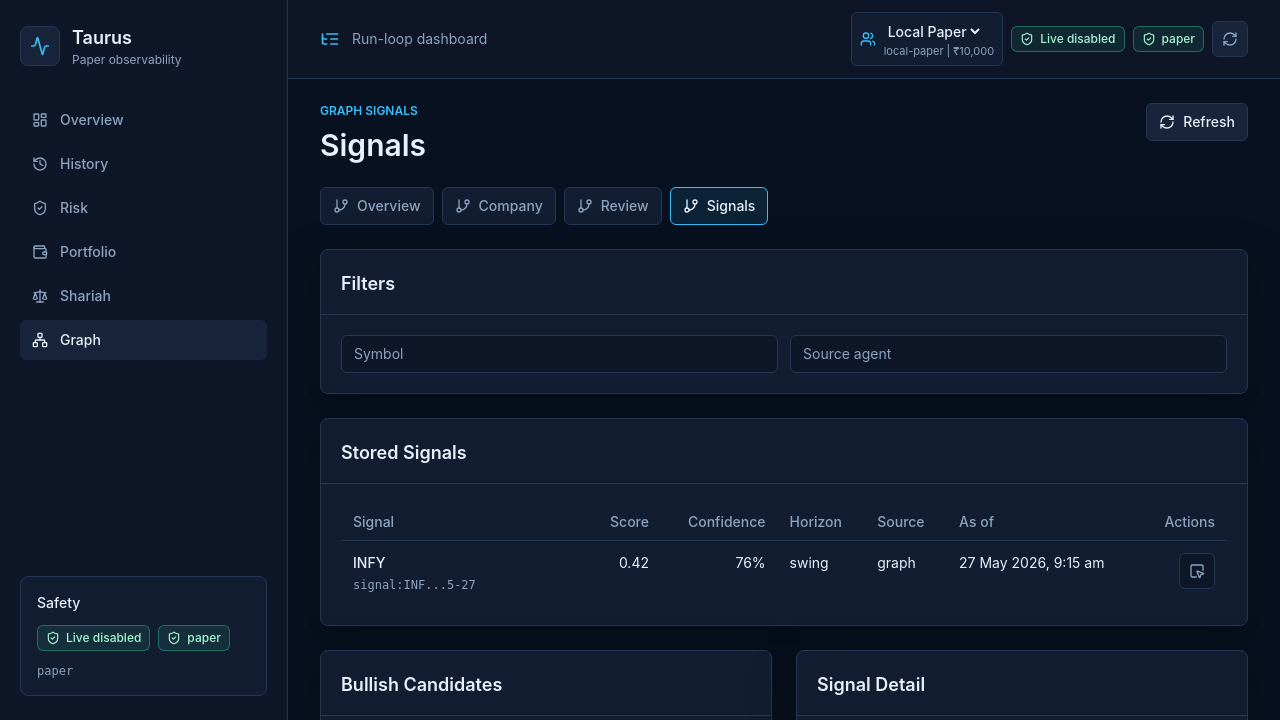
GraphPages › renders graph signals and contribution details
Expected: the heading "Signals" is shown, top-left (320, 127), bottom-right (426, 163)
Expected: the text "INFY" is shown, top-left (353, 554), bottom-right (385, 571)
Click the button named "Inspect signal" at (1197, 571), box top-left (1179, 553), bottom-right (1215, 589)
(page scrolled)
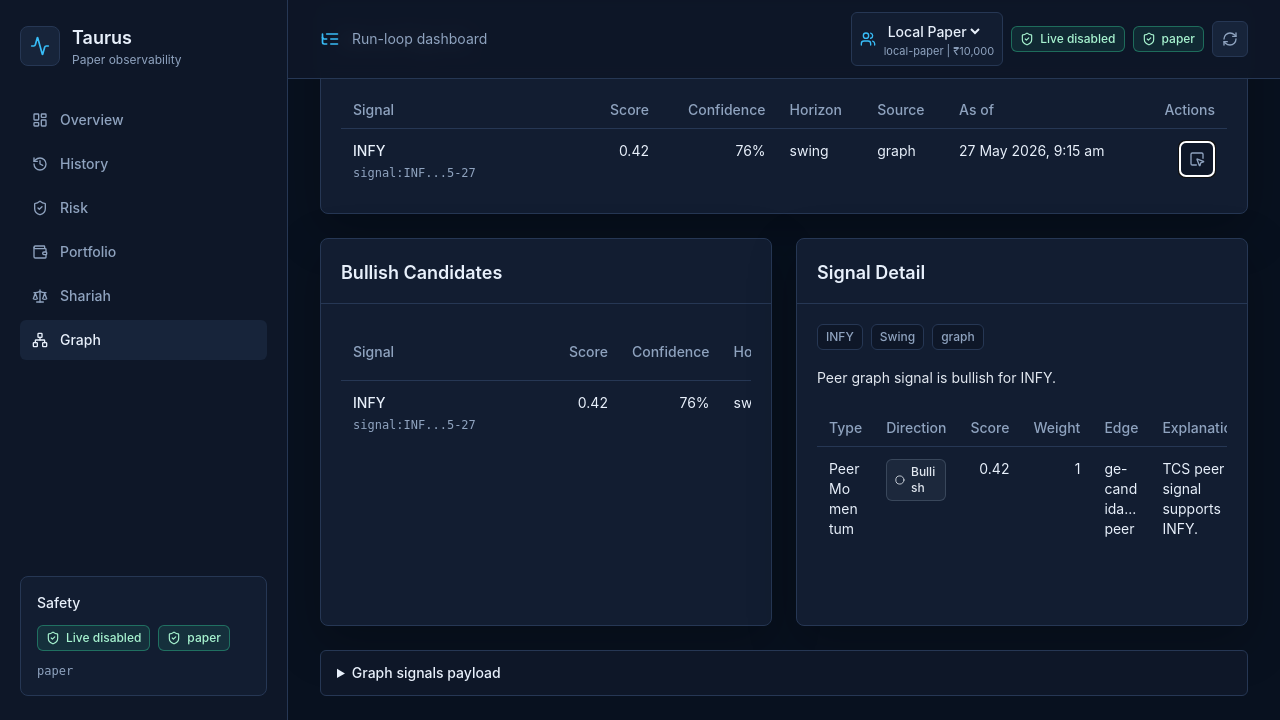
Expected: the text "Peer graph signal is bullish for INFY." is shown, top-left (817, 369), bottom-right (1056, 386)
Expected: the text "TCS peer signal supports INFY." is shown, top-left (1162, 460), bottom-right (1224, 537)
Expected: the text "Peer Momentum" is shown, top-left (829, 459), bottom-right (862, 539)
